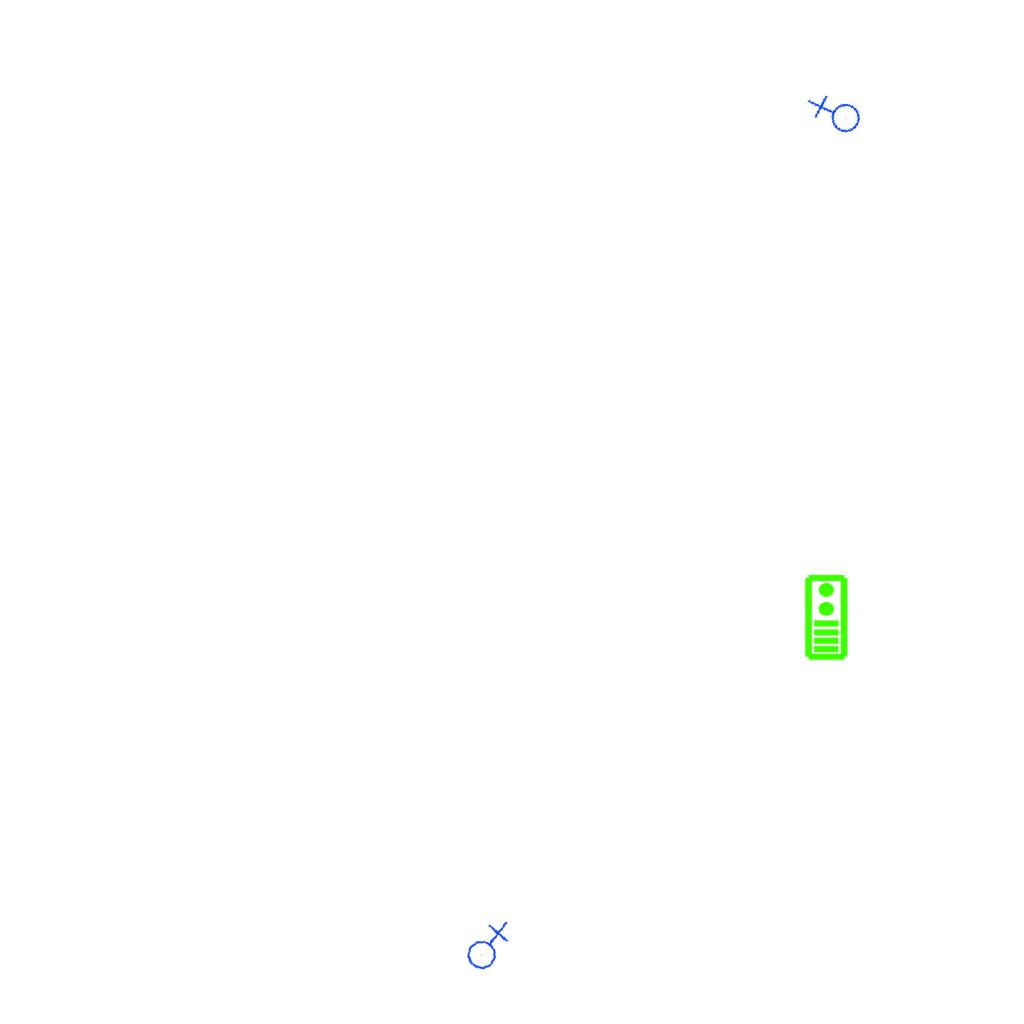Elektroanschluss_allgemein_230V_Geraeteanschlussdose_230V: (804, 84, 867, 147), (458, 918, 515, 973)
Gegensprechanlage_mit_Video: (802, 573, 849, 661)
